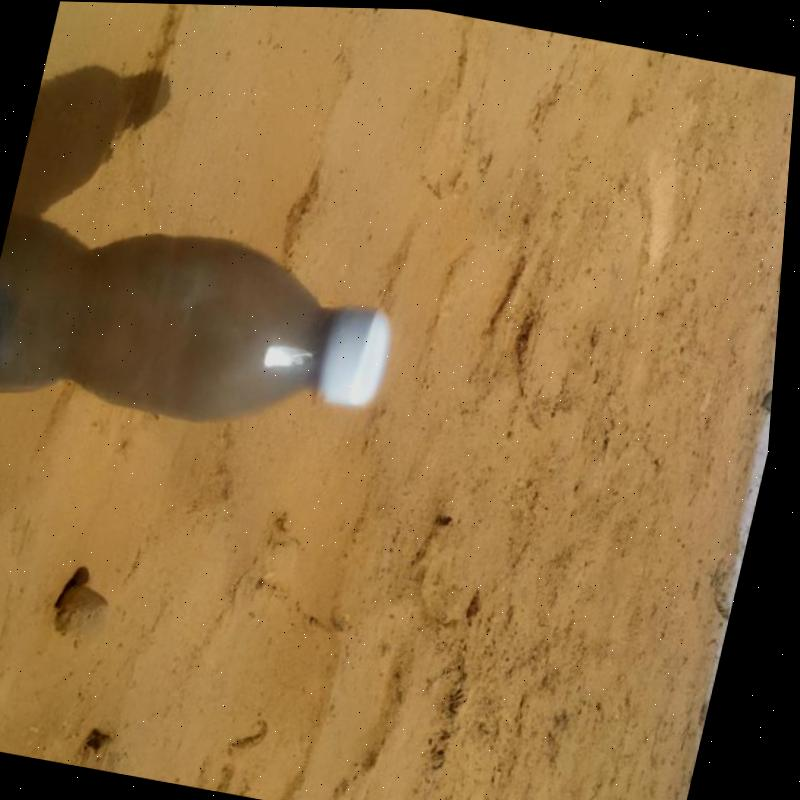botella: (0, 198, 416, 458)
